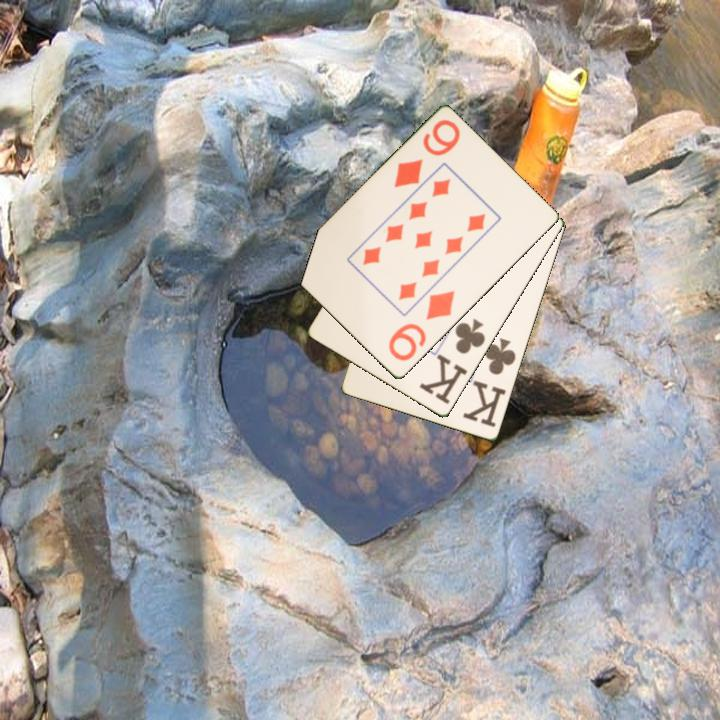9d: (385, 287, 458, 364), (390, 116, 463, 191)
Kc: (416, 315, 488, 408), (460, 334, 519, 431)
